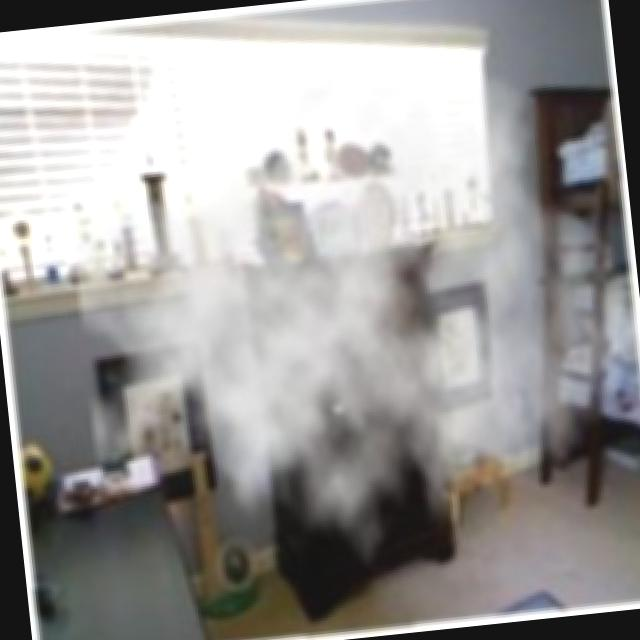smoke: (153, 149, 456, 470)
